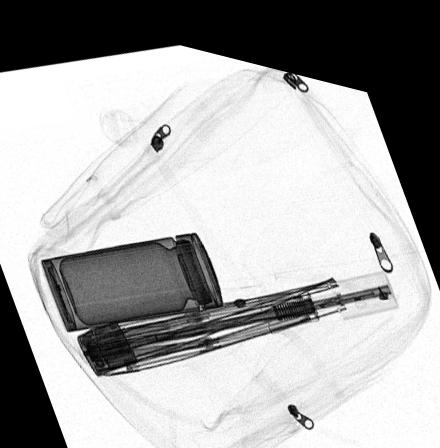Lighter: (76, 314, 137, 371)
